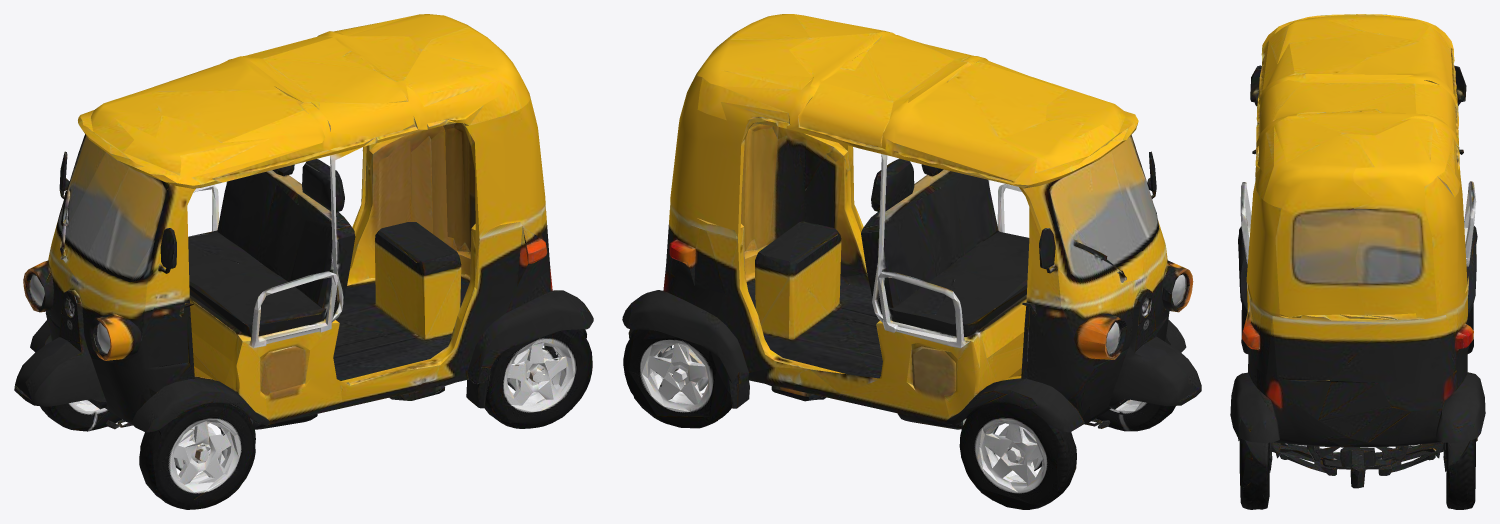
The model's file is auto.glb.
The picture shows the model from 3 angles, left to right: view 1: azimuth 30°, elevation 25°; view 2: azimuth 150°, elevation 25°; view 3: azimuth 270°, elevation 25°; orthographic projection. The views are drawn at different scales.
Visible parts, largest first — view 1: output_unwrapped; view 2: output_unwrapped; view 3: output_unwrapped.
Part boxes in pixels (x1,y1,x2,y2): output_unwrapped: (14, 14, 593, 509); output_unwrapped: (622, 14, 1201, 509); output_unwrapped: (1230, 14, 1485, 509).
Size of the model in its own units: 1.9 by 1.22 by 0.8307.
Materials: 1 (1 with a texture image).
